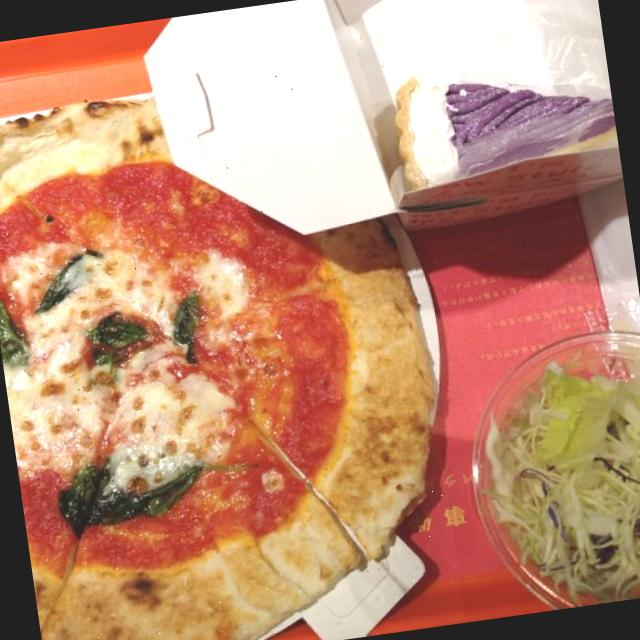basil: (53, 444, 208, 541), (74, 300, 165, 379), (167, 290, 224, 366), (0, 294, 44, 388)
pizza: (0, 101, 435, 640)
